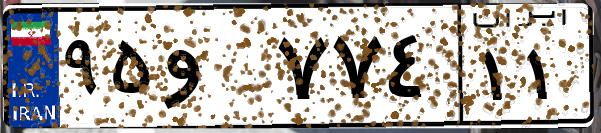1: (475, 38, 525, 113), (525, 38, 570, 115)
4: (385, 28, 445, 110)
5: (110, 28, 158, 98)
7: (270, 28, 330, 110), (330, 28, 385, 110)
9: (57, 26, 110, 100)
و: (158, 20, 270, 120)
